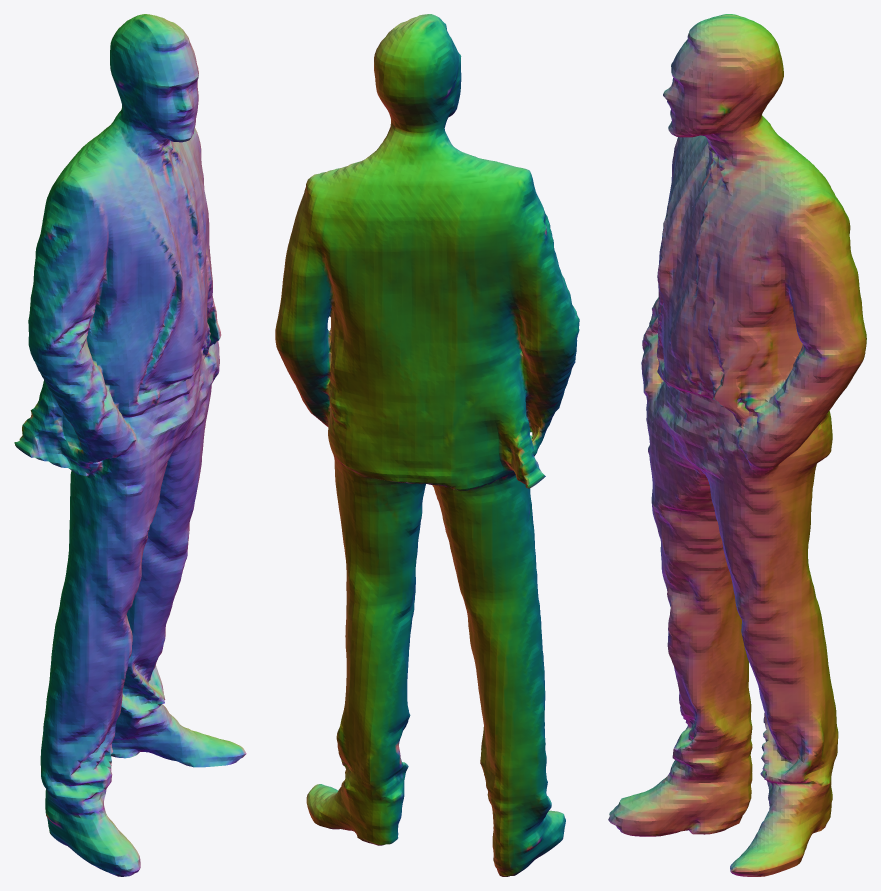
3 renders of one model, left to right at view 1: azimuth 30°, elevation 25°; view 2: azimuth 150°, elevation 25°; view 3: azimuth 270°, elevation 25°, orthographic. The views are drawn at different scales.
Size of the model in its own units: 0.5458 by 1.84 by 0.5046.
